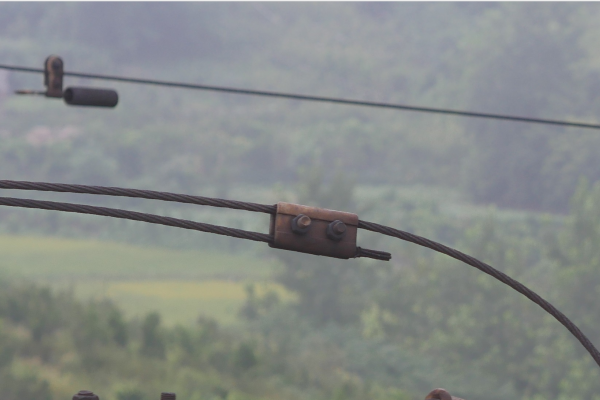damper_defect: (9, 51, 120, 111)
